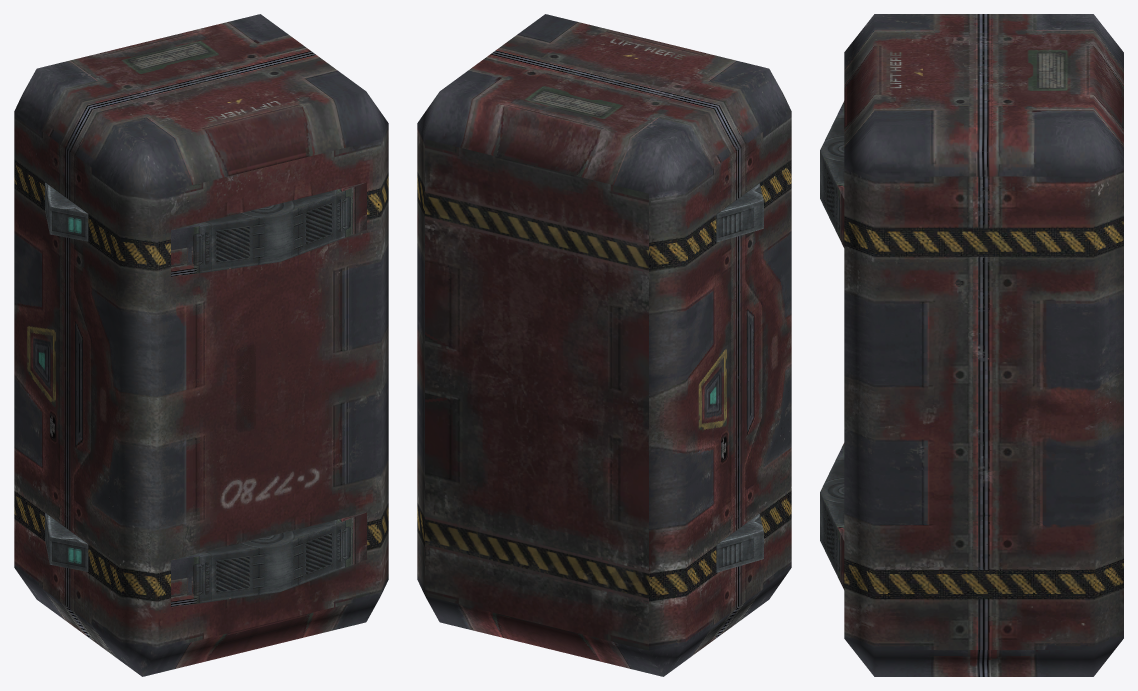
File: t6_wpn_supply_drop_axis_LOD2.obj
The picture shows the model from 3 angles, left to right: view 1: azimuth 30°, elevation 25°; view 2: azimuth 150°, elevation 25°; view 3: azimuth 270°, elevation 25°; orthographic projection. The views are drawn at different scales.
Visible parts, largest first — view 1: mtl_t6_wpn_supply_drop_axis; view 2: mtl_t6_wpn_supply_drop_axis; view 3: mtl_t6_wpn_supply_drop_axis.
Boxes of the visible parts, <box> form: mtl_t6_wpn_supply_drop_axis: <box>14,14,388,676</box>; mtl_t6_wpn_supply_drop_axis: <box>417,14,791,676</box>; mtl_t6_wpn_supply_drop_axis: <box>820,14,1123,676</box>.
Bounding box in the file's own units: 103 × 181 × 90.68.
